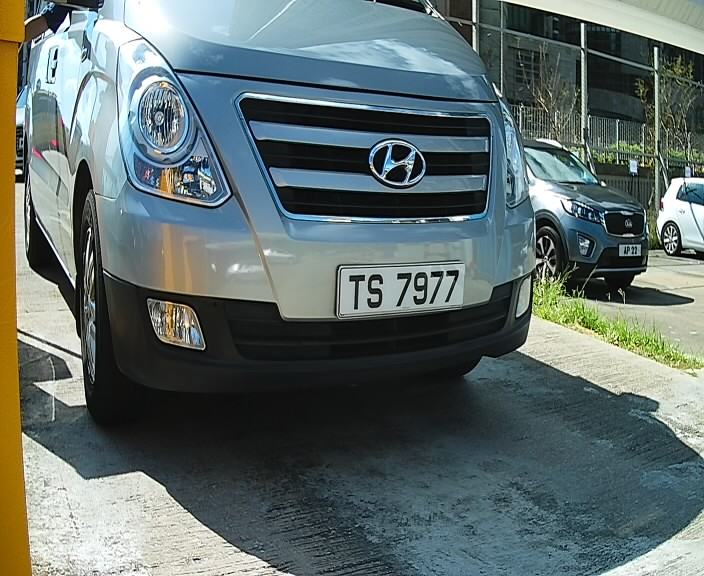Car: (23, 2, 542, 446)
License Plate: (321, 253, 478, 331)
